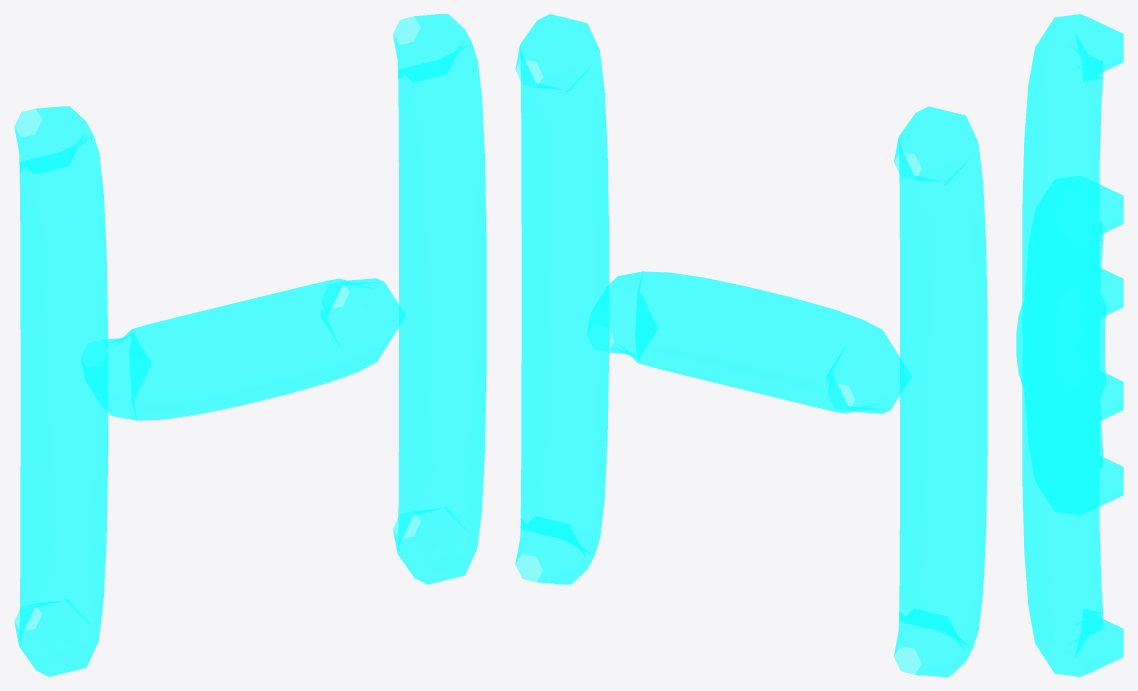
3 renders of one model, left to right at view 1: azimuth 30°, elevation 25°; view 2: azimuth 150°, elevation 25°; view 3: azimuth 270°, elevation 25°, orthographic. The views are drawn at different scales.
Parts seen in each view (by area): view 1: neon_letter_h.001_139; view 2: neon_letter_h.001_139; view 3: neon_letter_h.001_139.
Boxes of the visible parts, bbox=[...] form: neon_letter_h.001_139: bbox=[14, 14, 486, 676]; neon_letter_h.001_139: bbox=[515, 14, 987, 676]; neon_letter_h.001_139: bbox=[1016, 14, 1123, 676].
Size of the model in its own units: 0.7503 by 0.8552 by 0.1708.
